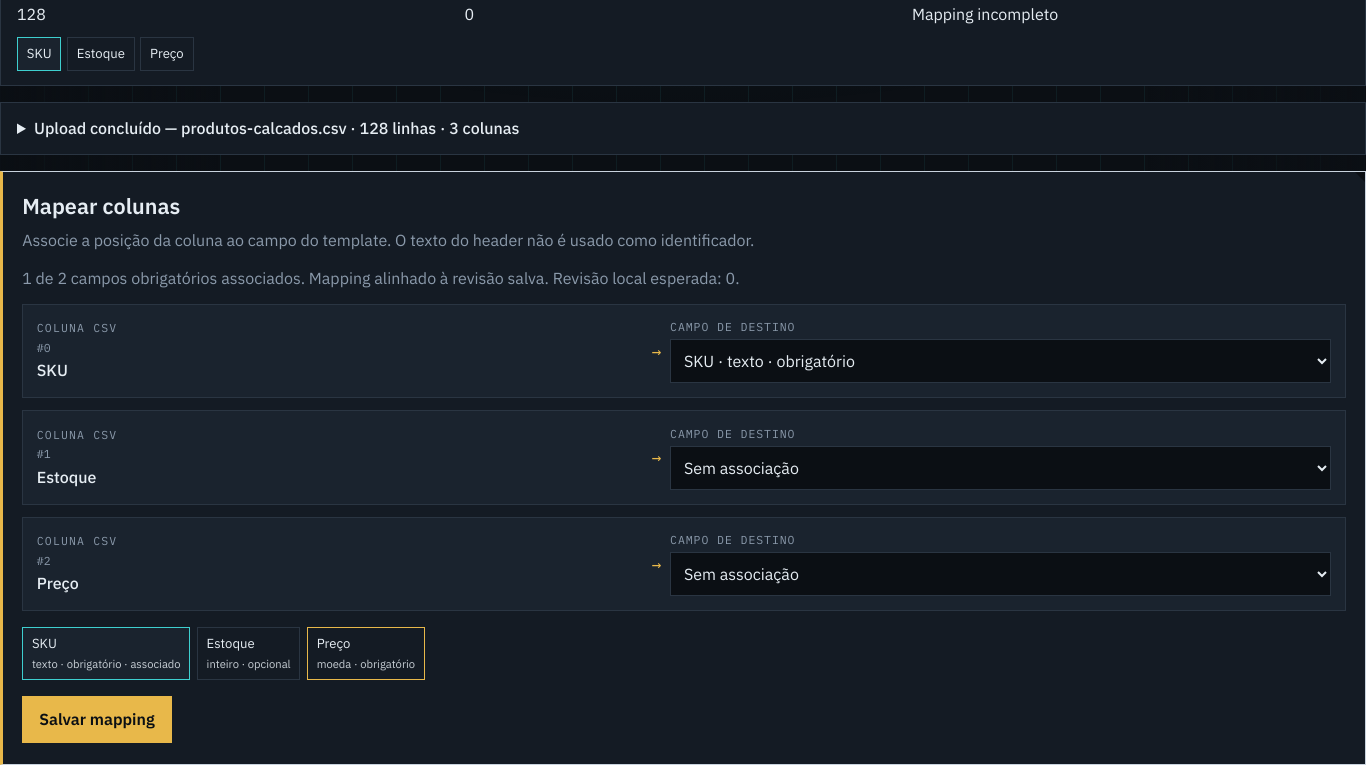
it: import flow mutations › ends interaction messaging for expired token during mapping save
This screenshot has width=1366, height=765.
(page scrolled)
Select "Preço · moeda · obrigatório" in the dropdown named "destino da coluna" at (1001,574), box [670, 552, 1331, 596]
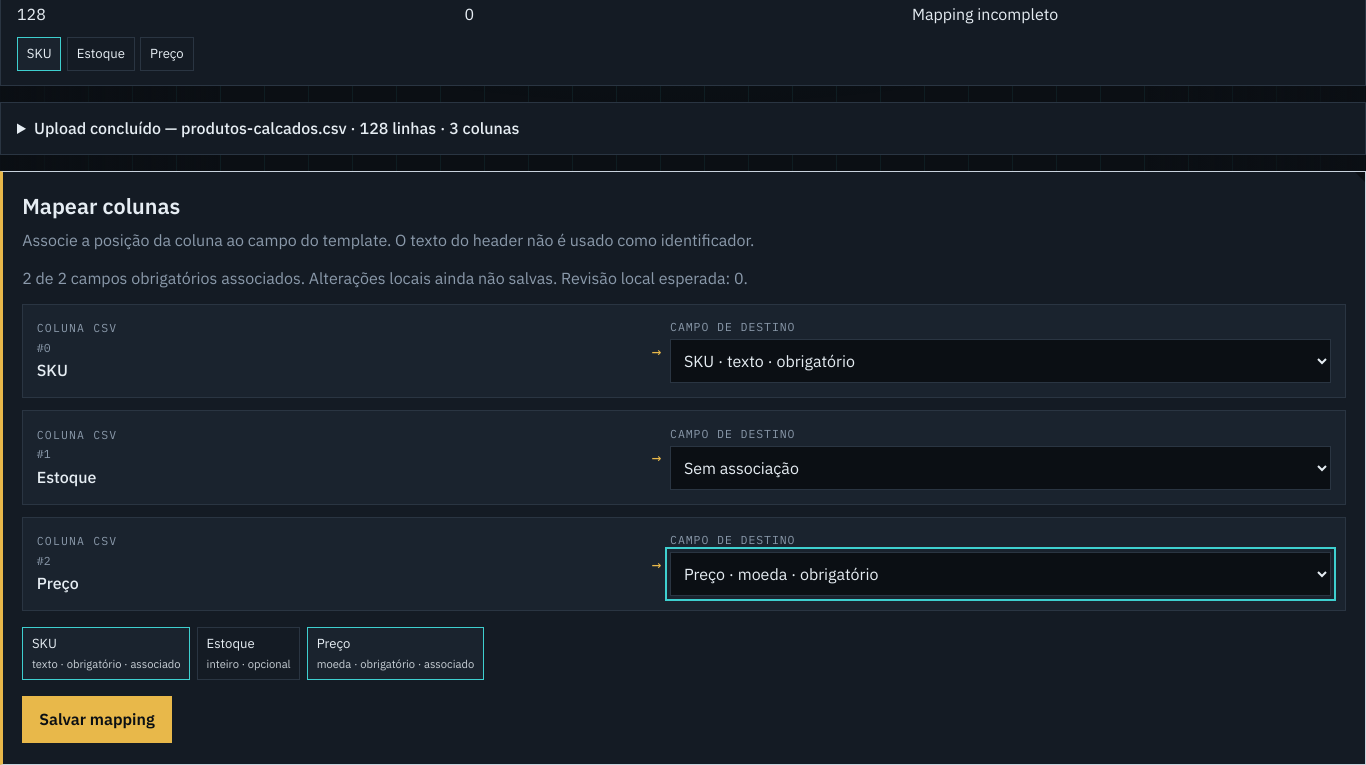
Click the button "Salvar mapping" at (97,719), box [22, 696, 172, 743]
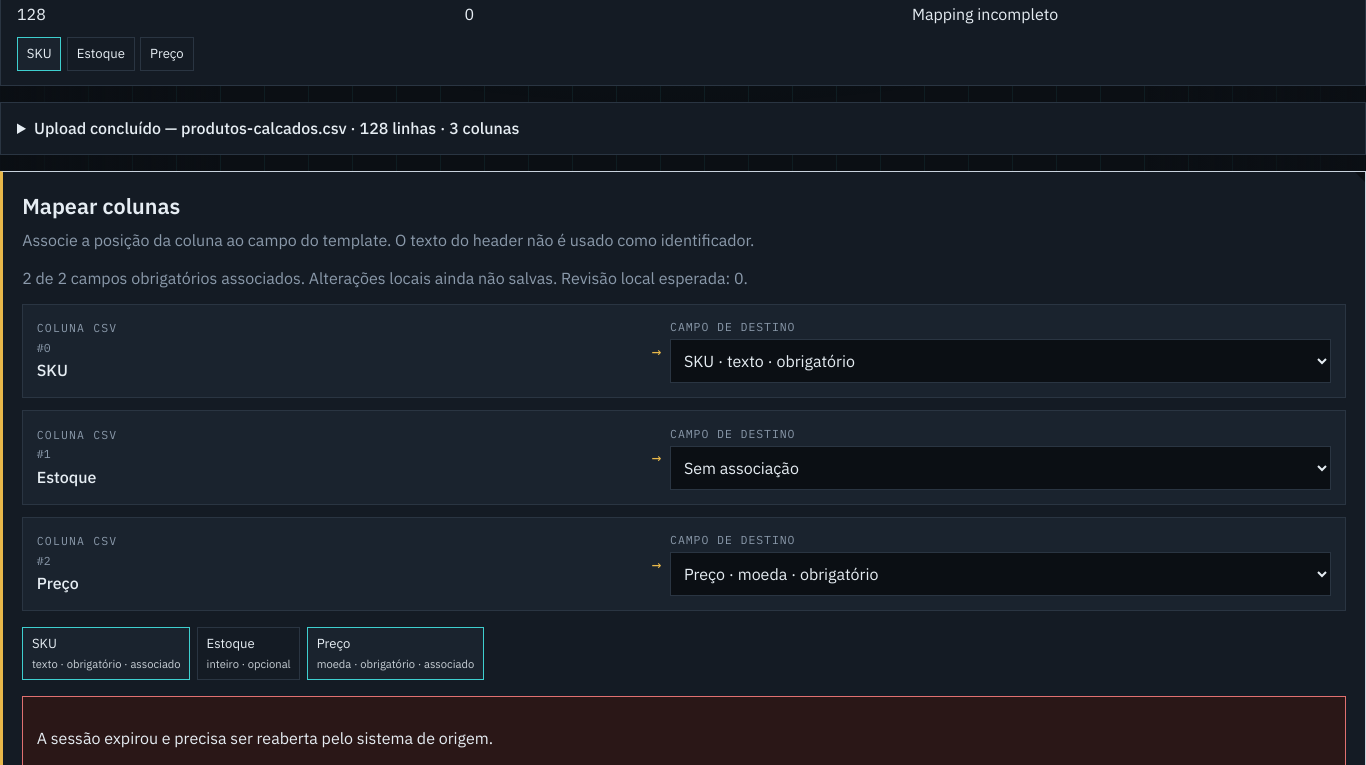
Result: the text "sessão expirou" is shown at [37, 728, 493, 748]
